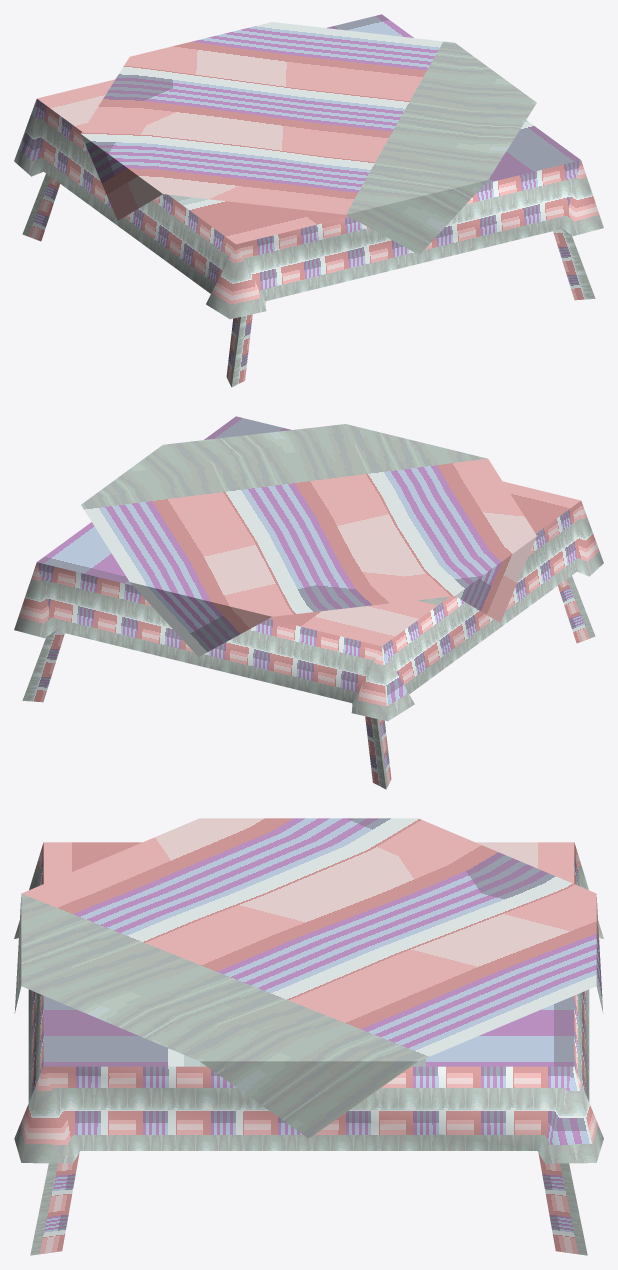
3 renders of one model, top to bottom at view 1: azimuth 30°, elevation 25°; view 2: azimuth 150°, elevation 25°; view 3: azimuth 270°, elevation 25°, orthographic. The views are drawn at different scales.
Visible parts, largest first — view 1: 3589kg_02_ta0; view 2: 3589kg_02_ta0; view 3: 3589kg_02_ta0.
Part boxes in pixels (<box>): 3589kg_02_ta0: <box>14,14,603,387</box>; 3589kg_02_ta0: <box>14,416,603,789</box>; 3589kg_02_ta0: <box>14,818,603,1255</box>.
Size of the model in its own units: 2 by 0.7388 by 2.
Materials: 1 (1 with a texture image).
